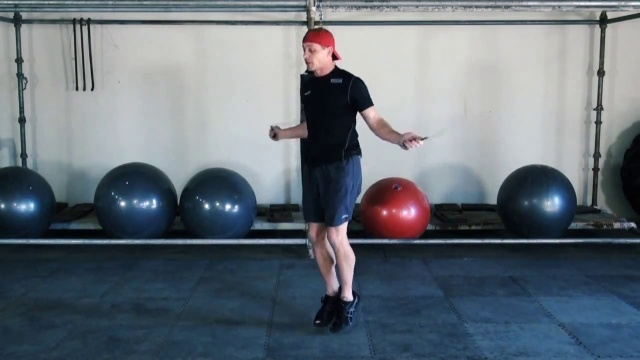person: (270, 19, 428, 337)
